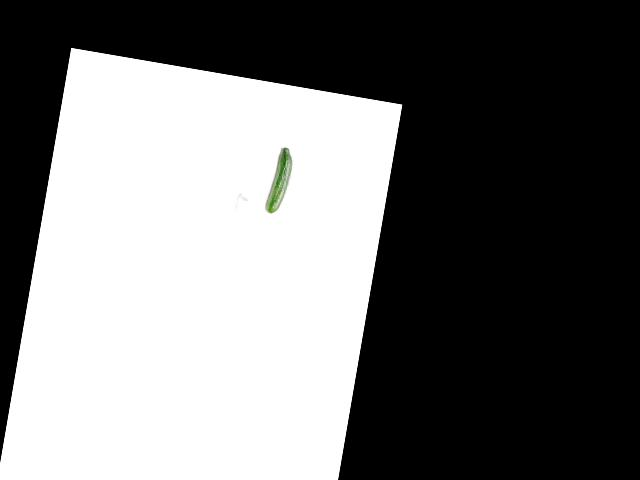cucumber: (264, 146, 294, 216)
